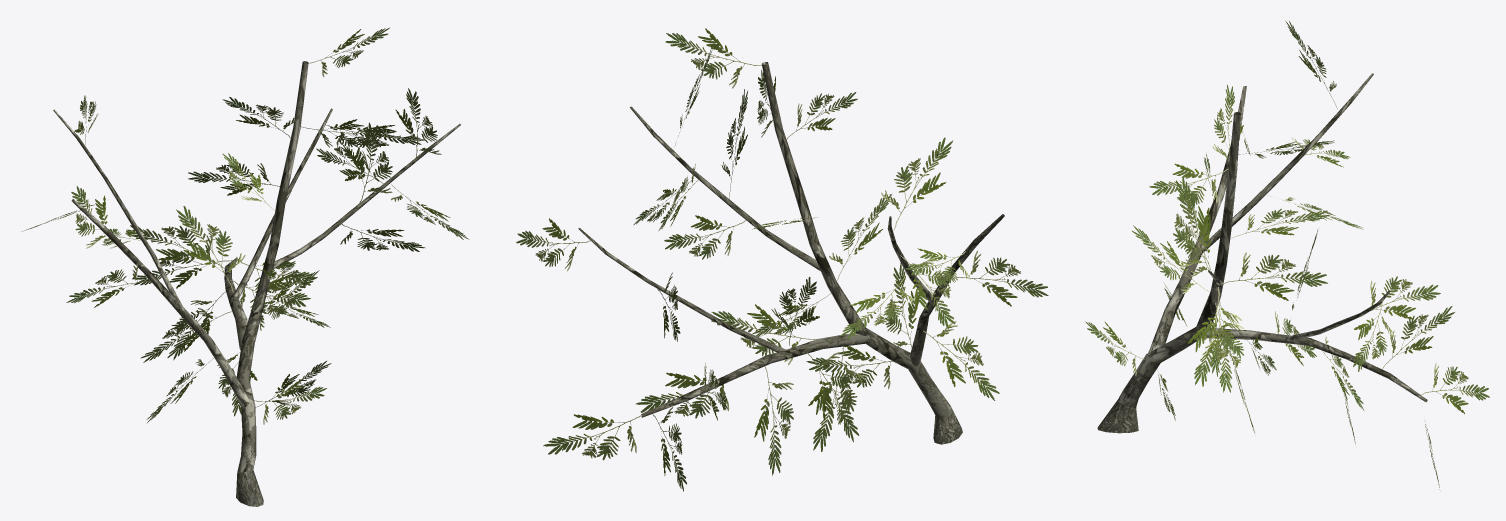
Rendered from Branch06.fbx.
3 views of the same model, side by side, from view 1: azimuth 30°, elevation 25°; view 2: azimuth 150°, elevation 25°; view 3: azimuth 270°, elevation 25° (orthographic). The views are drawn at different scales.
Visible parts, largest first — view 1: Branch06, Object001; view 2: Branch06, Object001; view 3: Branch06, Object001.
Part boxes in pixels (box(x1,y1,x2,y2)): Branch06: box(21, 27, 469, 472); Object001: box(236, 433, 263, 506); Branch06: box(516, 28, 1048, 491); Object001: box(920, 380, 962, 444); Branch06: box(1085, 21, 1489, 489); Object001: box(1097, 376, 1146, 433).
Bounding box in the file's own units: 122 × 106 × 98.35.
